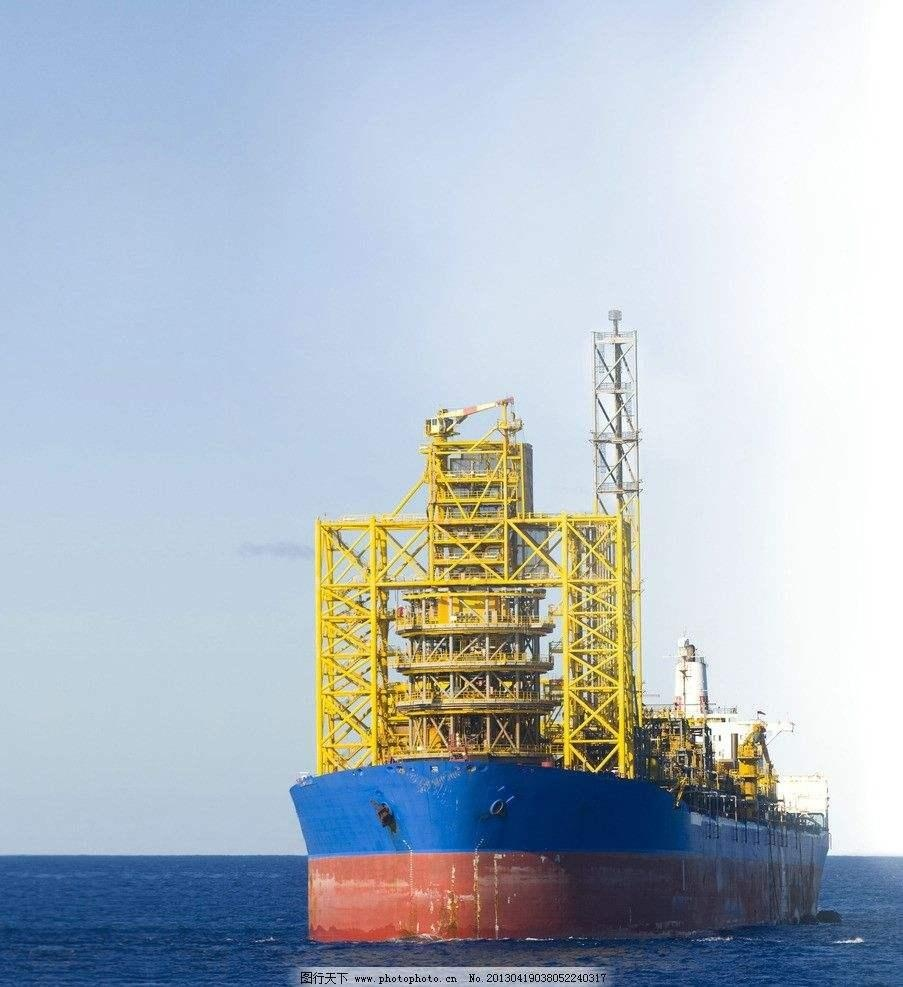Cargoship: (289, 290, 835, 949)
